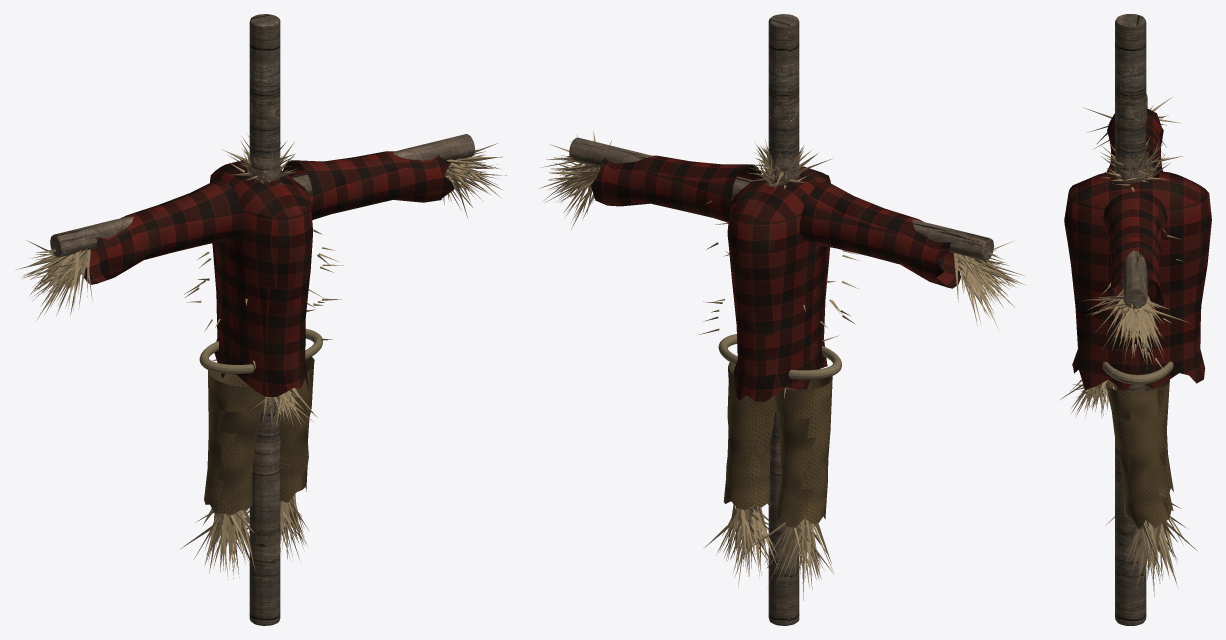
File: scarecrow.glb
3 renders of one model, left to right at view 1: azimuth 30°, elevation 25°; view 2: azimuth 150°, elevation 25°; view 3: azimuth 270°, elevation 25°, orthographic.
Parts seen in each view (by area): view 1: scarecrow; view 2: scarecrow; view 3: scarecrow.
Part boxes in pixels (<box>): scarecrow: <box>16,14,506,625</box>; scarecrow: <box>538,14,1025,625</box>; scarecrow: <box>1060,14,1211,625</box>.
Size of the model in its own units: 2.24 by 2.7 by 0.6306.
Materials: 6 (4 with a texture image).
